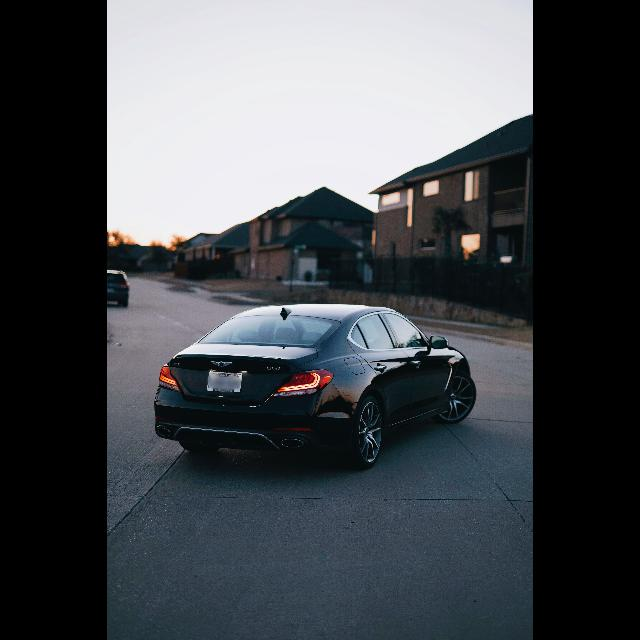cars: (147, 289, 481, 479)
